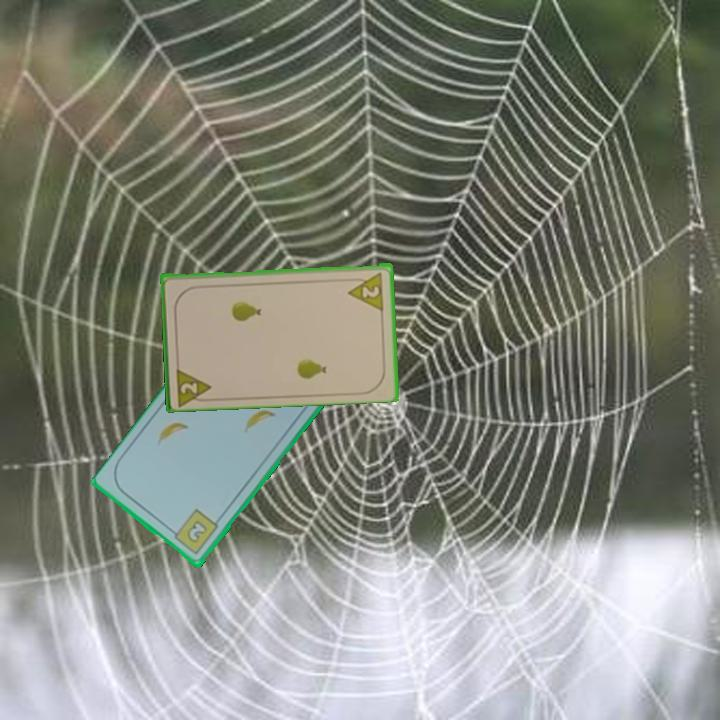2b: (167, 506, 221, 558)
2p: (344, 268, 386, 312), (176, 378, 200, 396)
